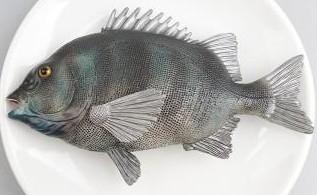fish: (7, 9, 313, 184)
